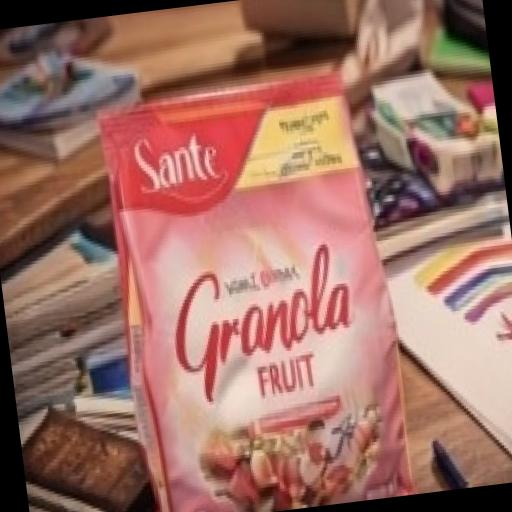granola: (58, 43, 433, 512)
